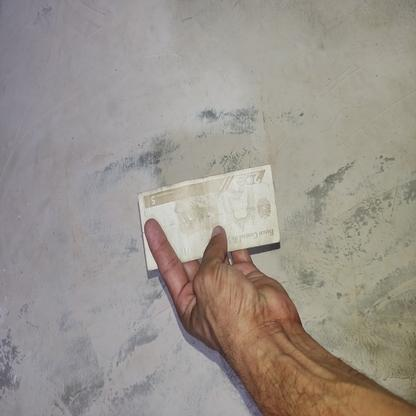five-back-vef: (138, 164, 280, 270)
